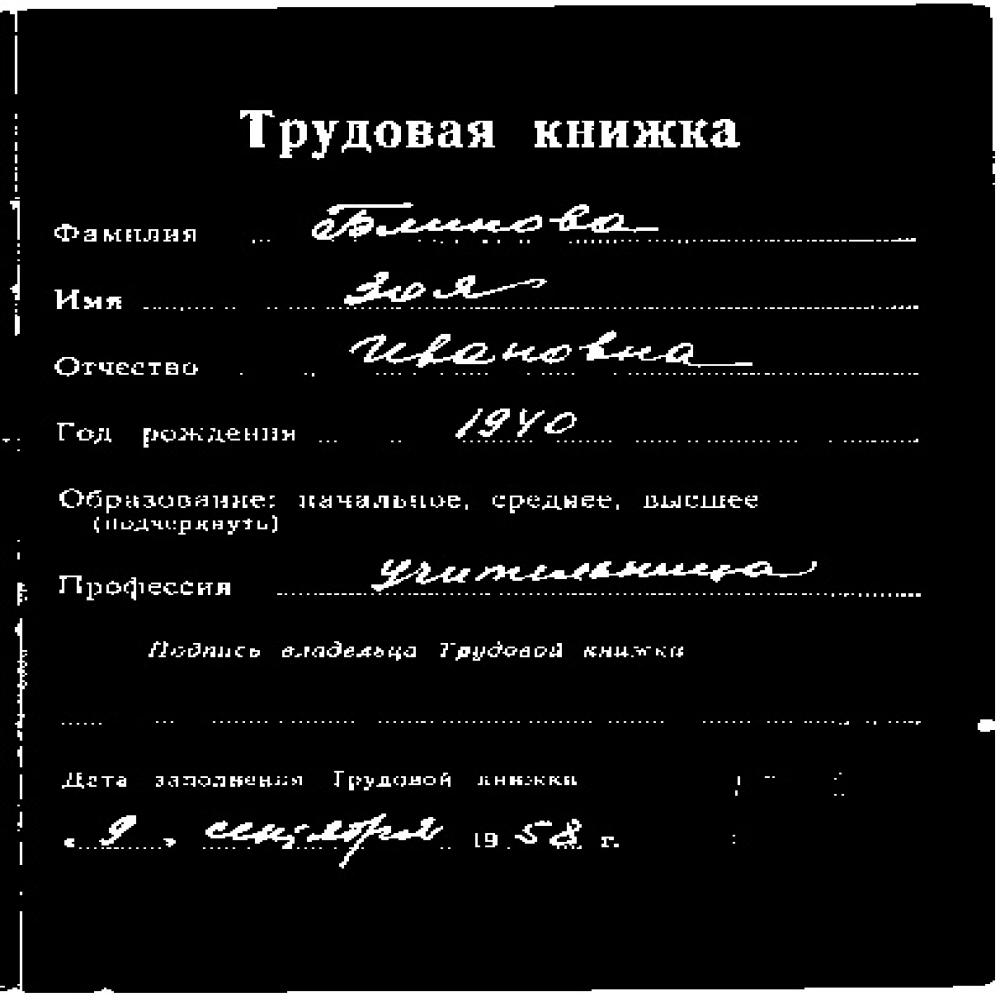rus: (235, 95, 745, 157), (344, 327, 736, 381), (367, 548, 813, 590), (138, 635, 687, 669), (64, 810, 458, 851), (301, 195, 662, 237), (57, 771, 582, 792), (322, 265, 540, 312), (54, 478, 278, 518), (45, 416, 310, 448), (287, 478, 470, 521), (51, 568, 242, 602), (448, 400, 602, 441), (50, 210, 202, 246), (50, 351, 211, 382), (487, 489, 627, 518), (514, 812, 586, 852), (49, 283, 130, 314), (644, 494, 776, 512), (466, 824, 501, 846)
